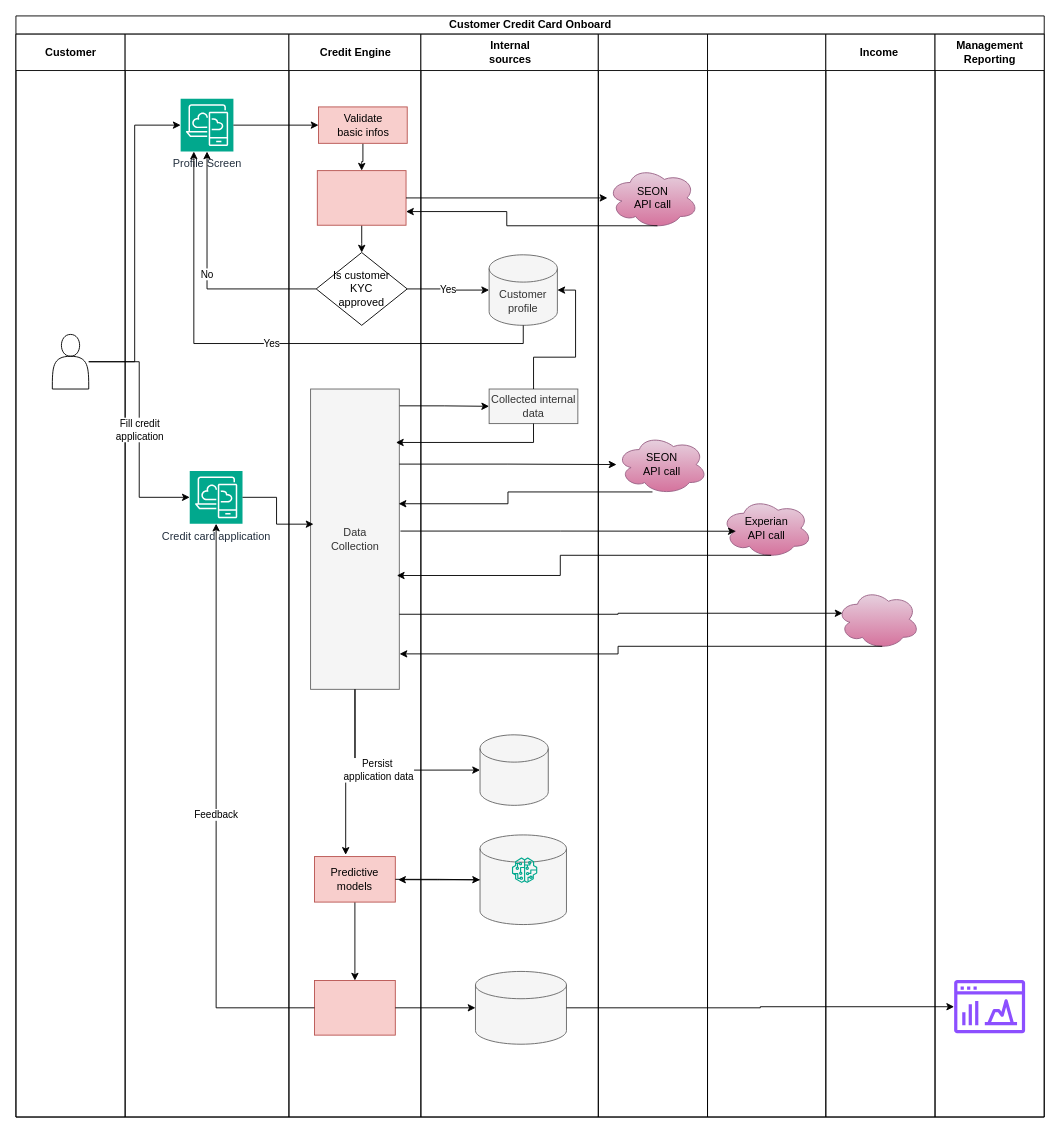
Image size: 1060x1133. Some labels were removed from this diagram. The shapes that lost their labels are listed below. From the top down, each one's box as (x1, y1, x2, y2) in pixels, then its label:
(316, 170, 406, 225): Validate customer
(124, 33, 289, 1117): Frond-End
(597, 33, 708, 1117): KYC
(707, 33, 826, 1117): Credit history
(836, 588, 920, 649): Plaid API call
(479, 734, 548, 805): Application request
(511, 857, 537, 883): Model respository
(314, 980, 395, 1035): Application Analysis
(475, 971, 566, 1044): Credit card application proposal
